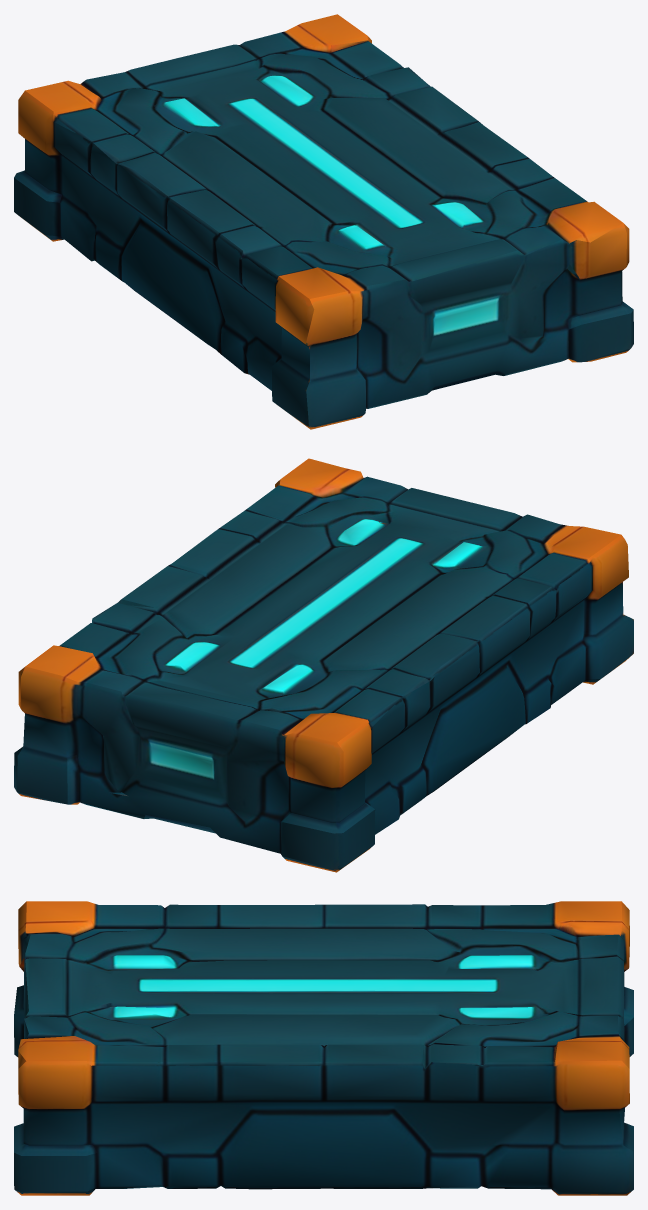
The model's file is Obs10.fbx.
3 renders of one model, top to bottom at view 1: azimuth 30°, elevation 25°; view 2: azimuth 150°, elevation 25°; view 3: azimuth 270°, elevation 25°, orthographic. The views are drawn at different scales.
Parts seen in each view (by area): view 1: tmpujahyi_l.ply; view 2: tmpujahyi_l.ply; view 3: tmpujahyi_l.ply.
Part boxes in pixels (box(x1,y1,x2,y2)): tmpujahyi_l.ply: box(14, 14, 633, 429); tmpujahyi_l.ply: box(14, 458, 633, 872); tmpujahyi_l.ply: box(14, 901, 633, 1195).
Size of the model in its own units: 128 by 47.63 by 199.
Materials: 1 (1 with a texture image).
